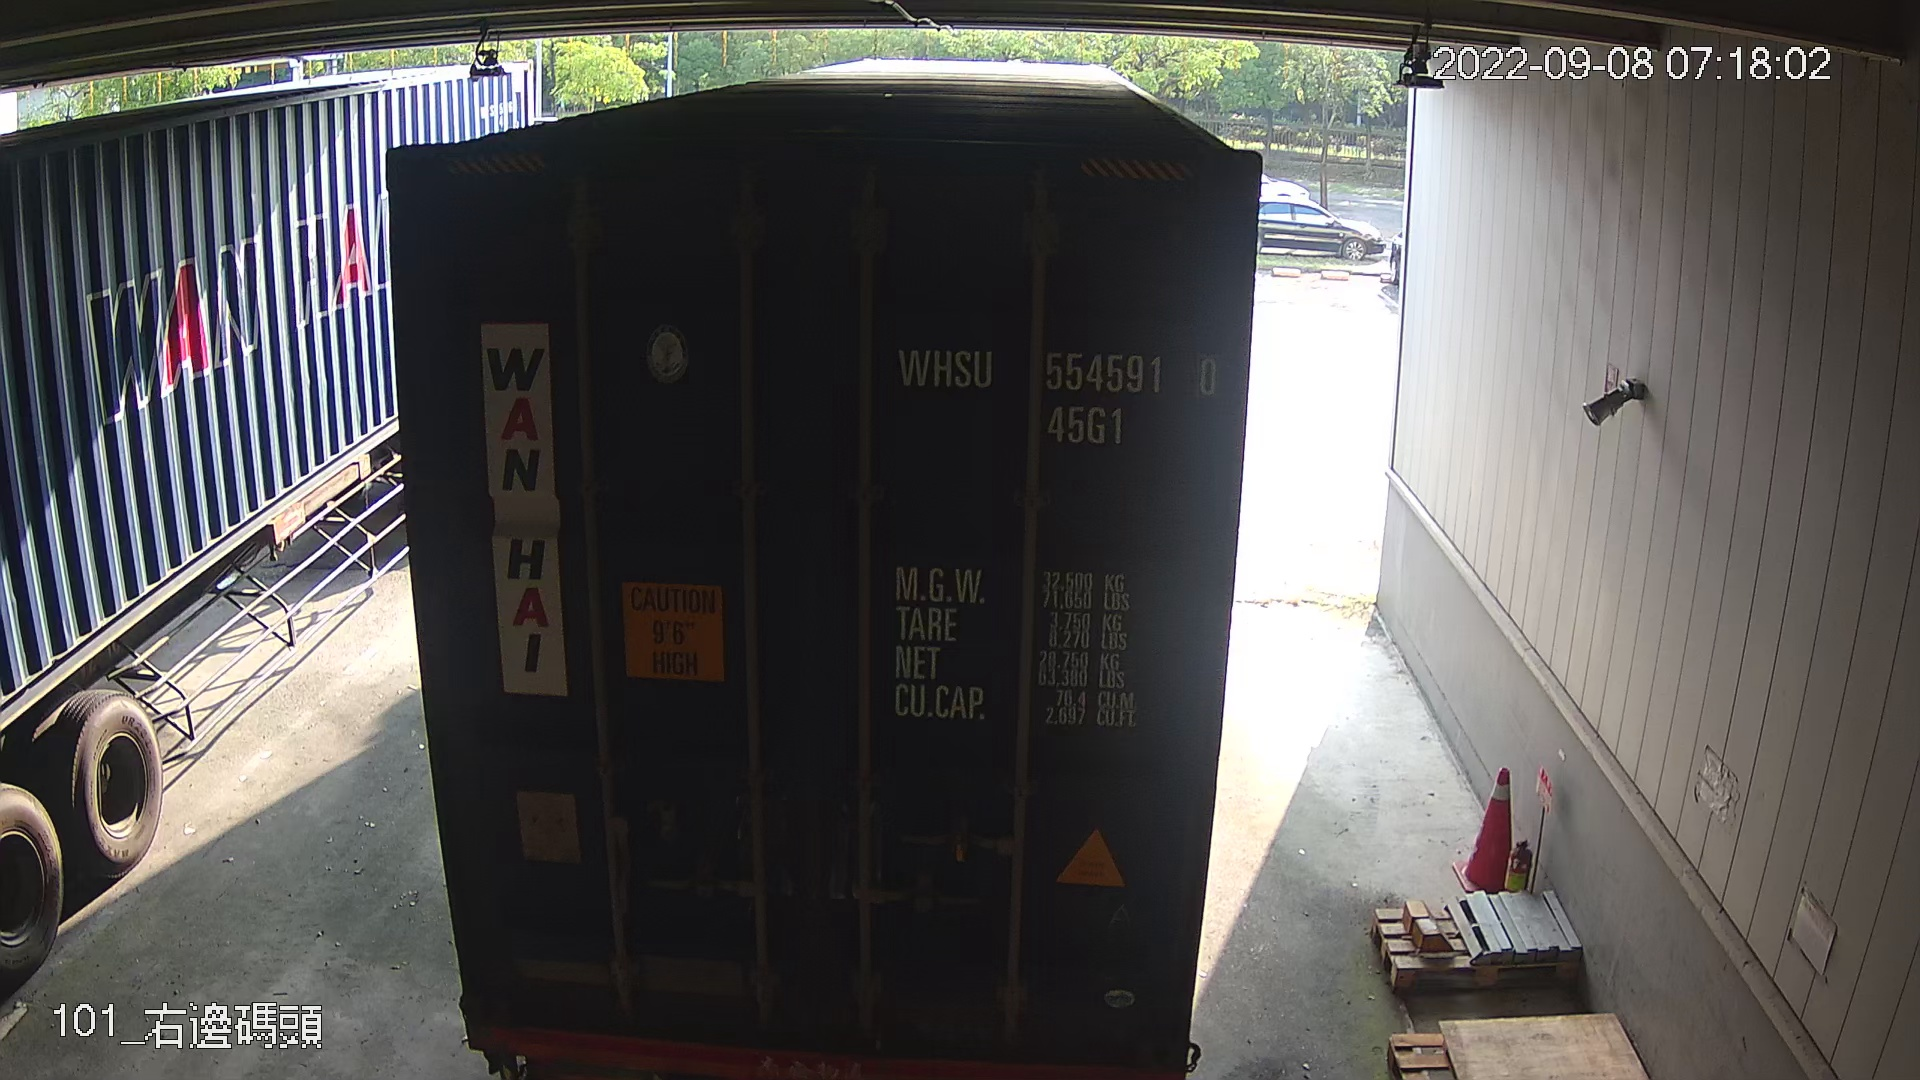container: (887, 330, 1229, 452)
